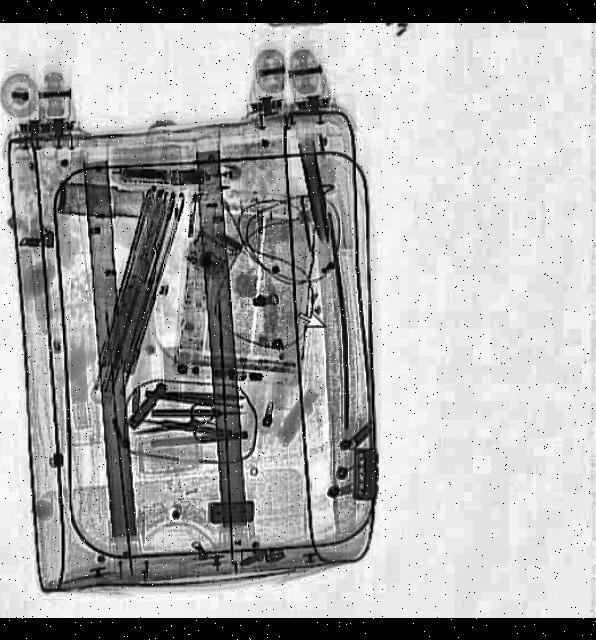Scissors: (133, 402, 224, 453)
